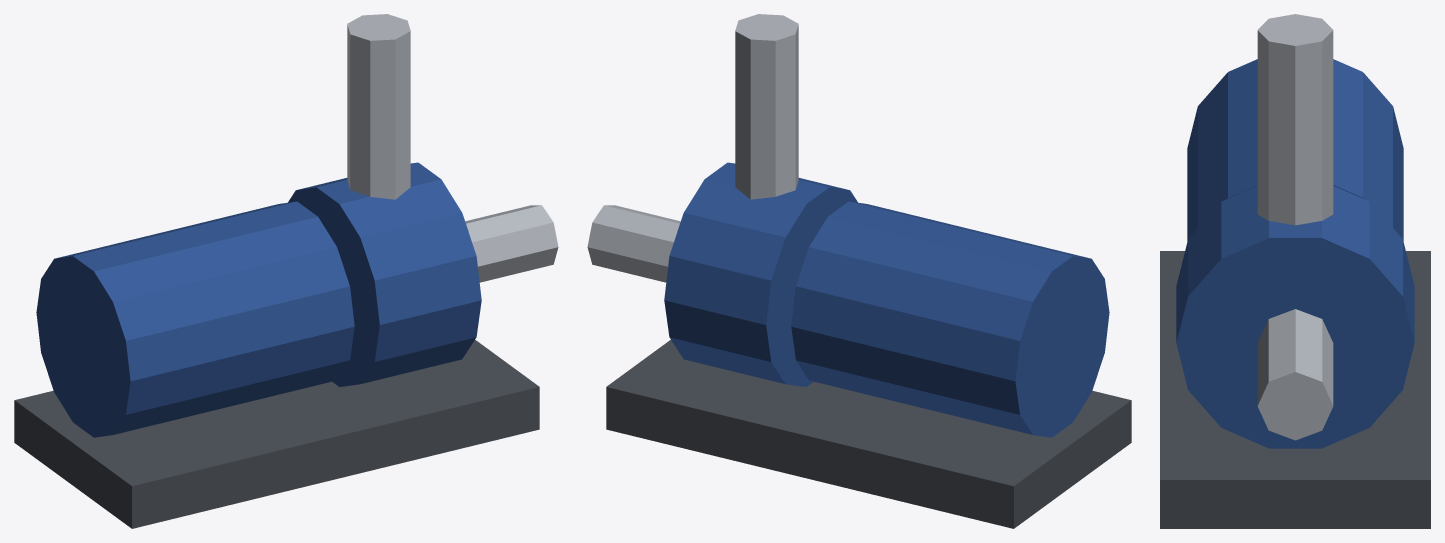
The model's file is water pump.glb.
3 renders of one model, left to right at view 1: azimuth 30°, elevation 25°; view 2: azimuth 150°, elevation 25°; view 3: azimuth 270°, elevation 25°, orthographic. The views are drawn at different scales.
Visible parts, largest first — view 1: water pump; view 2: water pump; view 3: water pump.
Part boxes in pixels (x1,y1,x2,y2): water pump: (14, 14, 558, 528); water pump: (587, 14, 1131, 528); water pump: (1160, 14, 1430, 528).
Bounding box in the file's own units: 1.15 × 0.9 × 0.5.
